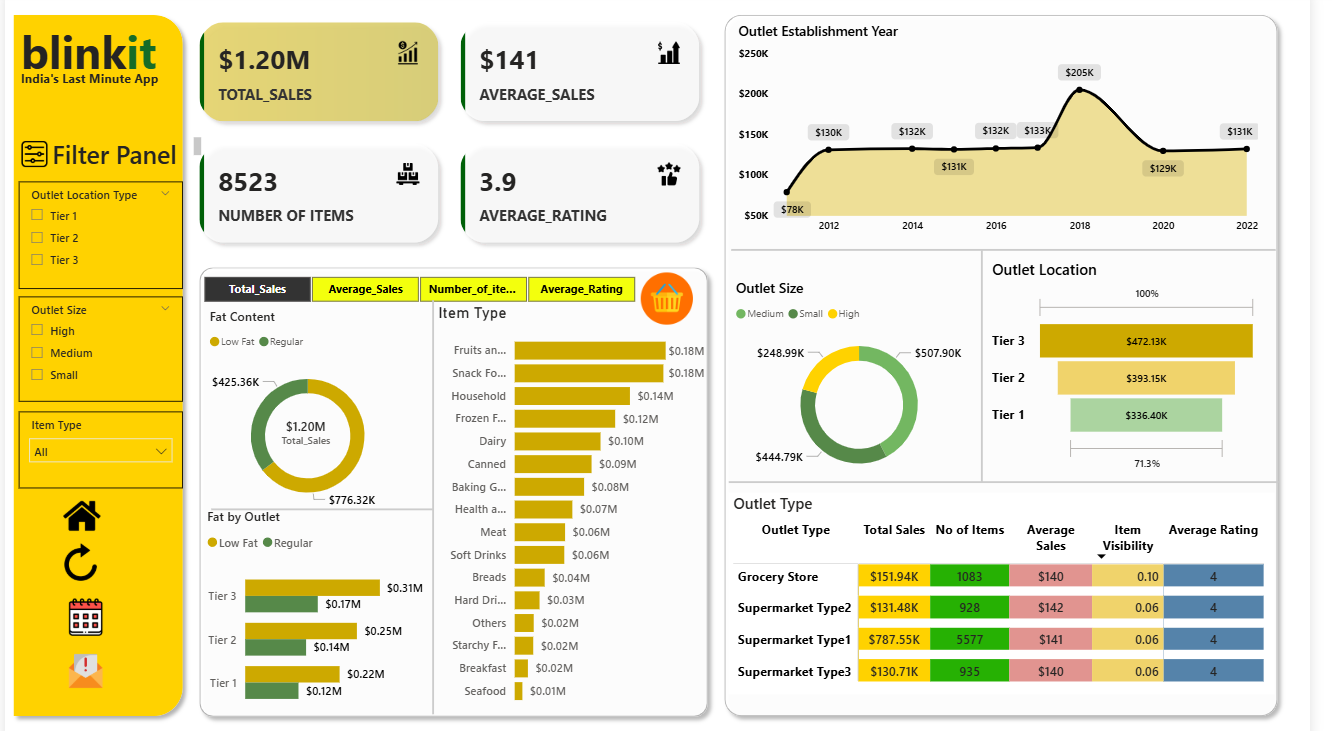

Layout of this report page (visuals, bound fields, positions):
{"tool":"powerbi","page":{"name":"Page 1","canvas":[1400,800],"ordinal":0},"visuals":[{"type":"shape","box":[0,13.5,199.6,769.9],"z":0},{"type":"textbox","box":[12,24,172.6,124.6],"z":1000},{"type":"textbox","box":[12,76.5,720.4,72],"z":2000},{"type":"cardVisual","fields":{"Data":["BlinkIT Grocery Data.001 total_sale","BlinkIT Grocery Data.002 average_sales","BlinkIT Grocery Data.003 number_of_items","BlinkIT Grocery Data.004 avg_rating"]},"box":[192.1,13.5,570.3,270.2],"z":3000},{"type":"shape","box":[199.6,283.7,562.8,499.8],"z":4000},{"type":"donutChart","title":"Fat Content","fields":{"Y":["BlinkIT Grocery Data.001 total_sale"],"Category":["BlinkIT Grocery Data.Item Fat Content"]},"box":[214.6,336.2,220.6,229.6],"z":5000},{"type":"slicer","fields":{"Values":["metrics.metrics"]},"box":[187.6,295.7,511.8,40.5],"z":6000},{"type":"cardVisual","fields":{"Data":["BlinkIT Grocery Data.001 total_sale"]},"box":[262.7,436.8,120.1,60],"z":7000},{"type":"shape","box":[762.4,13.5,610.9,769.9],"z":8000},{"type":"clusteredBarChart","title":"Fat by Outlet","fields":{"Y":["BlinkIT Grocery Data.001 total_sale"],"Category":["BlinkIT Grocery Data.Outlet Location Type"],"Series":["BlinkIT Grocery Data.Item Fat Content"]},"box":[212,550.3,241.6,230.7],"z":9000},{"type":"shape","box":[220.6,543.3,238.6,19.5],"z":10000},{"type":"shape","box":[453.3,328.7,12,444.3],"z":11000},{"type":"barChart","title":" Item Type","fields":{"Y":["BlinkIT Grocery Data.001 total_sale"],"Category":["BlinkIT Grocery Data.Item Type"]},"box":[459.3,331.7,295.7,441.3],"z":12000},{"type":"lineChart","title":"Outlet Establishment Year","fields":{"Category":["BlinkIT Grocery Data.Outlet Establishment Year"],"Y":["BlinkIT Grocery Data.001 total_sale"]},"box":[781.9,30,567.3,235.6],"z":13000},{"type":"shape","box":[778.9,265.7,583.8,18],"z":14000},{"type":"donutChart","title":"Outlet Size","fields":{"Y":["BlinkIT Grocery Data.001 total_sale"],"Category":["BlinkIT Grocery Data.Outlet Size"]},"box":[778.9,304.7,274.7,225.1],"z":15000},{"type":"shape","box":[1041.6,274.7,12,249.1],"z":16000},{"type":"funnel","title":"Outlet Location ","fields":{"Category":["BlinkIT Grocery Data.Outlet Location Type"],"Y":["BlinkIT Grocery Data.001 total_sale"]},"box":[1053.9,283.7,294.7,233.9],"z":17000},{"type":"shape","box":[775.9,517.8,589.8,12],"z":18000},{"type":"pivotTable","title":"Outlet Type","fields":{"Rows":["BlinkIT Grocery Data.Outlet Type"],"Values":["BlinkIT Grocery Data.001 total_sale","BlinkIT Grocery Data.003 number_of_items","BlinkIT Grocery Data.002 average_sales","Avg(BlinkIT Grocery Data.Item Visibility)","BlinkIT Grocery Data.004 avg_rating"]},"box":[775.9,534.3,585.3,216.1],"z":19000},{"type":"slicer","fields":{"Values":["BlinkIT Grocery Data.Outlet Location Type"]},"box":[15,201.1,175.6,115.6],"z":20000},{"type":"slicer","fields":{"Values":["BlinkIT Grocery Data.Outlet Size"]},"box":[15,324.2,175.6,112.6],"z":21000},{"type":"slicer","fields":{"Values":["BlinkIT Grocery Data.Item Type"]},"box":[15,447.3,175.6,82.5],"z":22000},{"type":"textbox","box":[45,148.6,169.6,42],"z":23000},{"type":"image","box":[676.9,283.7,66,85.5],"z":24000},{"type":"image","box":[0,153.1,63,37.5],"z":25000},{"type":"image","box":[12.5,534.7,140.3,49.9],"z":26000},{"type":"image","box":[10.9,584.6,140.3,49.9],"z":27000},{"type":"image","box":[15.6,643.9,140.3,49.9],"z":28000},{"type":"image","box":[15.6,701.6,140.3,49.9],"z":29000}]}

Visuals, with their boxes on the page's 1400x800 design canvas (x1, y1, x2, y2). These are canvas units, not pixel positions in the 1332x731 screenshot, which may show the page scaled, cropped or inside an application window:
shape: l=0, t=14, r=200, b=783
textbox: l=12, t=24, r=185, b=149
textbox: l=12, t=76, r=732, b=148
cardVisual - BlinkIT Grocery Data.001 total_sale x BlinkIT Grocery Data.002 average_sales: l=192, t=14, r=762, b=284
shape: l=200, t=284, r=762, b=784
"Fat Content" donutChart: l=215, t=336, r=435, b=566
slicer - metrics.metrics: l=188, t=296, r=699, b=336
cardVisual - BlinkIT Grocery Data.001 total_sale: l=263, t=437, r=383, b=497
shape: l=762, t=14, r=1373, b=783
"Fat by Outlet" clusteredBarChart: l=212, t=550, r=454, b=781
shape: l=221, t=543, r=459, b=563
shape: l=453, t=329, r=465, b=773
" Item Type" barChart: l=459, t=332, r=755, b=773
"Outlet Establishment Year" lineChart: l=782, t=30, r=1349, b=266
shape: l=779, t=266, r=1363, b=284
"Outlet Size" donutChart: l=779, t=305, r=1054, b=530
shape: l=1042, t=275, r=1054, b=524
"Outlet Location " funnel: l=1054, t=284, r=1349, b=518
shape: l=776, t=518, r=1366, b=530
"Outlet Type" pivotTable: l=776, t=534, r=1361, b=750
slicer - BlinkIT Grocery Data.Outlet Location Type: l=15, t=201, r=191, b=317
slicer - BlinkIT Grocery Data.Outlet Size: l=15, t=324, r=191, b=437
slicer - BlinkIT Grocery Data.Item Type: l=15, t=447, r=191, b=530
textbox: l=45, t=149, r=215, b=191
image: l=677, t=284, r=743, b=369
image: l=0, t=153, r=63, b=191
image: l=12, t=535, r=153, b=585
image: l=11, t=585, r=151, b=634
image: l=16, t=644, r=156, b=694
image: l=16, t=702, r=156, b=752
